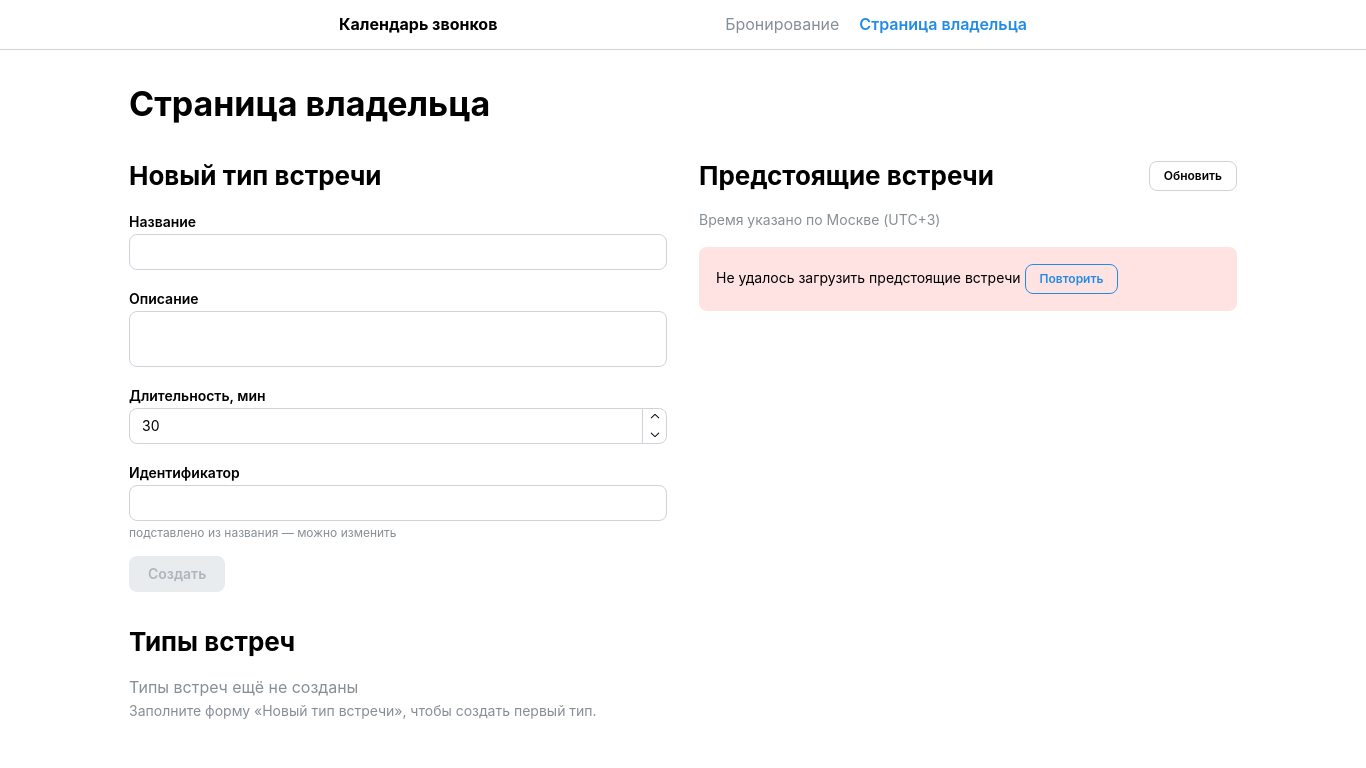
main page › opens the booking page from the owner page header
What coordinates should you click on to do the following:
click the link "Бронирование"
I would click on:
 (782, 24)
Its box is [725,12,839,37].
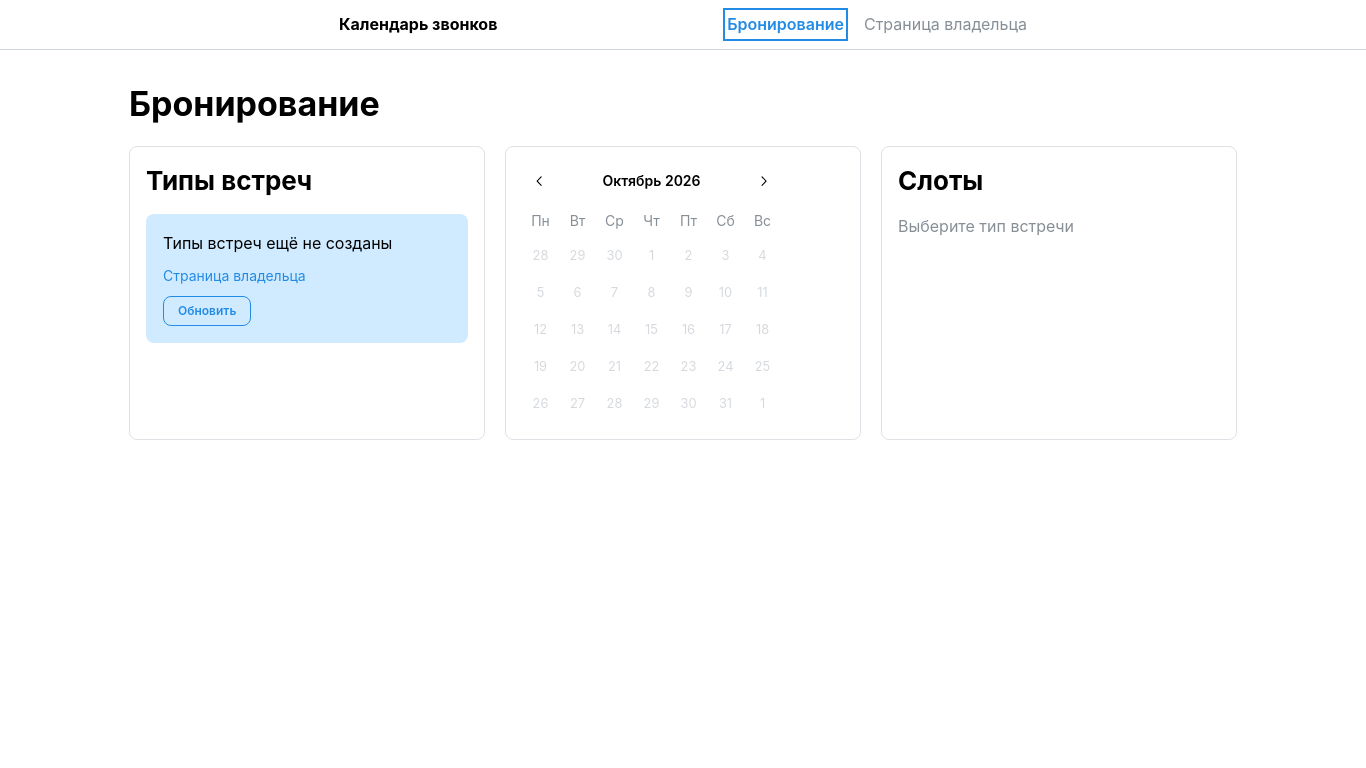
Expected: the heading "Бронирование" is shown, [129,83,380,124]
